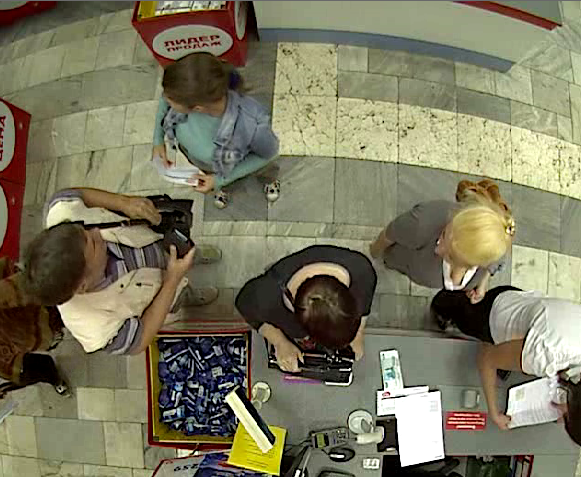person: (22, 185, 225, 359), (430, 285, 581, 448), (150, 51, 283, 211), (235, 243, 379, 373), (370, 199, 516, 306)
